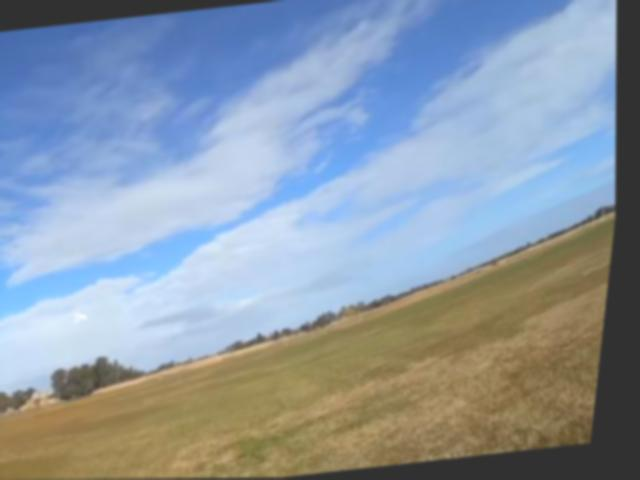uav: (74, 305, 101, 329)
